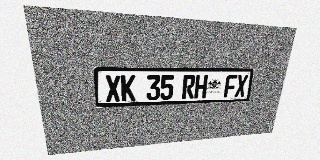3: (147, 75, 161, 100)
5: (160, 75, 174, 100)
F: (224, 75, 237, 97)
H: (194, 75, 208, 99)
K: (121, 75, 136, 101)
R: (182, 75, 196, 99)
X: (105, 75, 121, 102), (234, 75, 248, 97)
